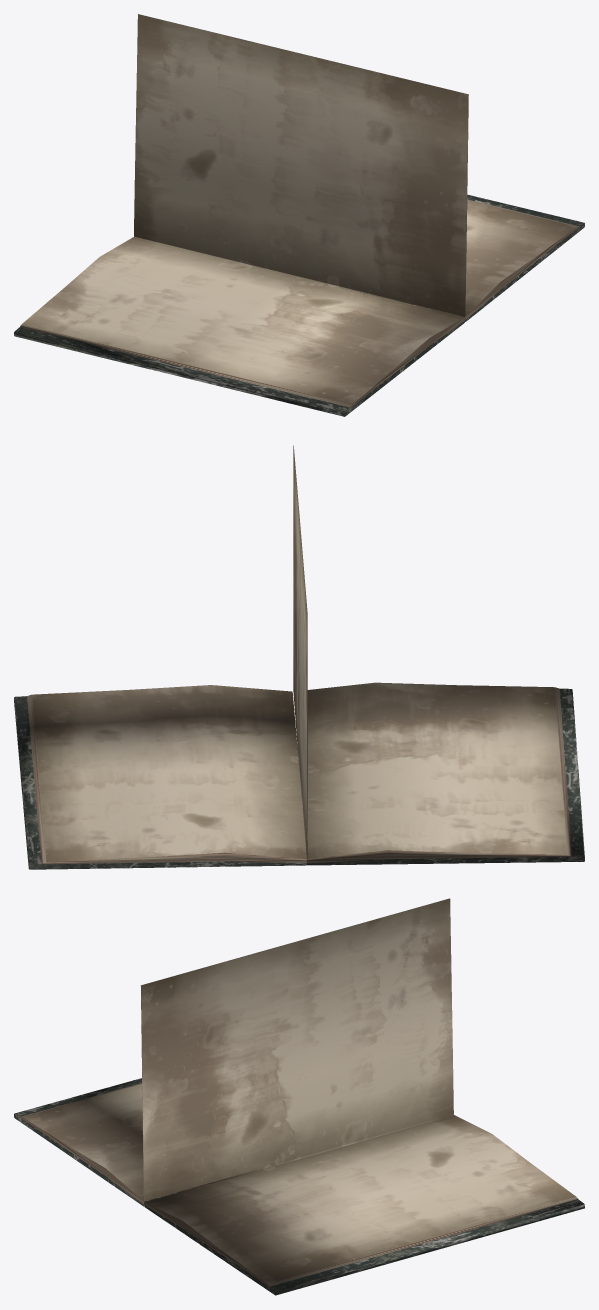
File: SM_Journal_Menu.fbx
3 views of the same model, one above another, from view 1: azimuth 30°, elevation 25°; view 2: azimuth 150°, elevation 25°; view 3: azimuth 270°, elevation 25° (orthographic). The views are drawn at different scales.
Visible parts, largest first — view 1: Page, Book_Left, Book_Right; view 2: Book_Right, Book_Left, Page; view 3: Page, Book_Right, Book_Left.
Part boxes in pixels (x1,y1,x2,y2): Page: (134, 14, 468, 316); Book_Left: (14, 236, 465, 416); Book_Right: (169, 194, 584, 321); Book_Right: (14, 685, 306, 869); Book_Left: (294, 682, 584, 865); Page: (293, 445, 307, 858); Page: (140, 898, 453, 1201); Book_Right: (144, 1115, 584, 1295); Book_Left: (14, 1078, 453, 1206).
Bounding box in the file's own units: 31.06 × 12.75 × 28.94.
